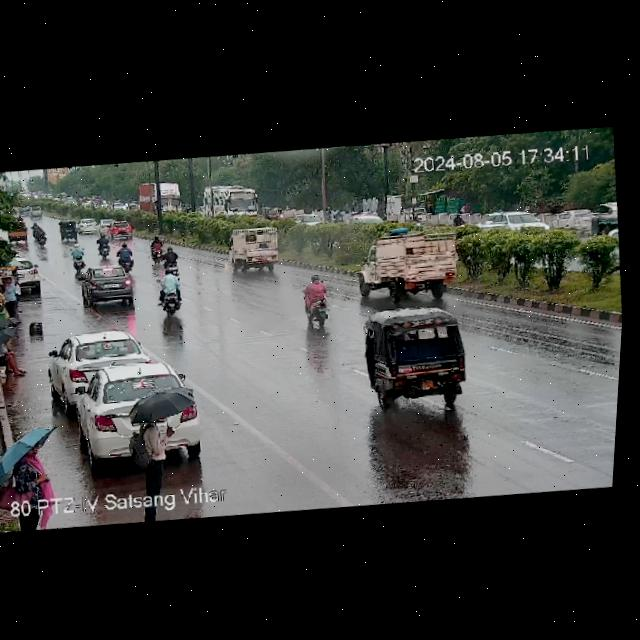bus: (201, 180, 258, 219)
car: (357, 299, 477, 411), (69, 359, 186, 430), (44, 325, 147, 399), (79, 261, 138, 309), (16, 254, 47, 292), (104, 217, 135, 239), (56, 220, 79, 244), (78, 215, 101, 233), (94, 215, 112, 233)
motorcycle: (298, 275, 340, 331), (155, 269, 191, 315), (67, 243, 91, 271), (115, 241, 135, 272), (161, 244, 183, 272), (148, 235, 167, 263), (93, 233, 113, 257), (34, 226, 47, 248), (28, 221, 40, 240)
person: (120, 386, 200, 492), (0, 437, 64, 531), (0, 336, 26, 382), (0, 272, 21, 319), (9, 268, 27, 305)
truck: (356, 229, 468, 307), (225, 224, 288, 277), (135, 176, 188, 219)
